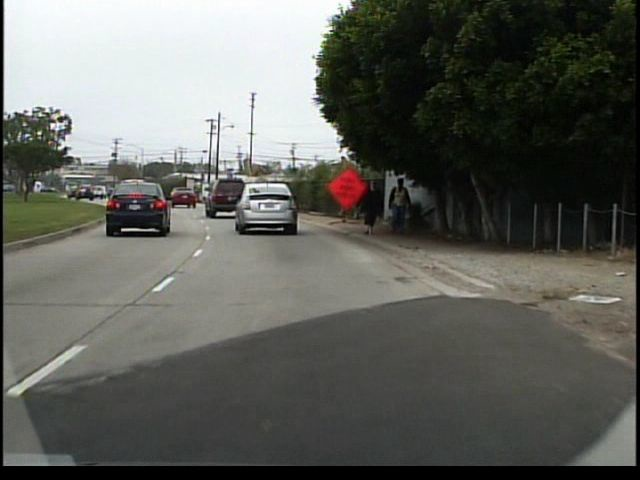person: (350, 174, 386, 242), (386, 177, 413, 240)
